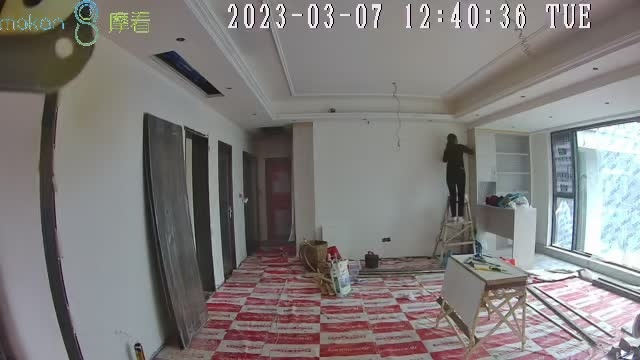people: (442, 134, 470, 222)
window: (550, 117, 640, 278)
